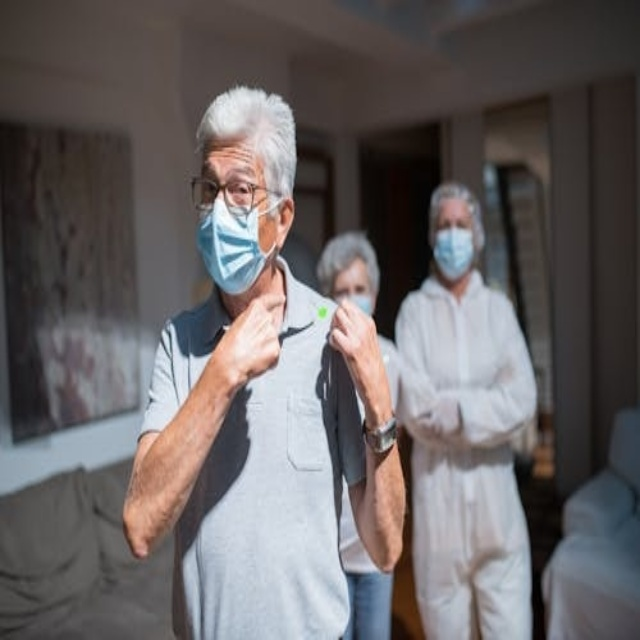Gafas: (187, 155, 275, 220)
Mascara: (195, 193, 277, 295), (432, 227, 474, 280), (340, 293, 374, 318)
Sin_gafas: (434, 211, 477, 236), (333, 276, 371, 299)
